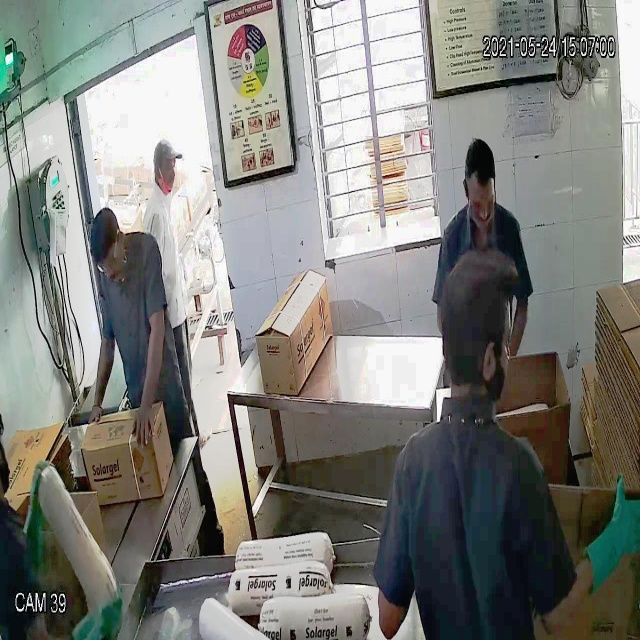Gafas: (92, 241, 124, 283)
Sin_gafas: (151, 155, 179, 181)
